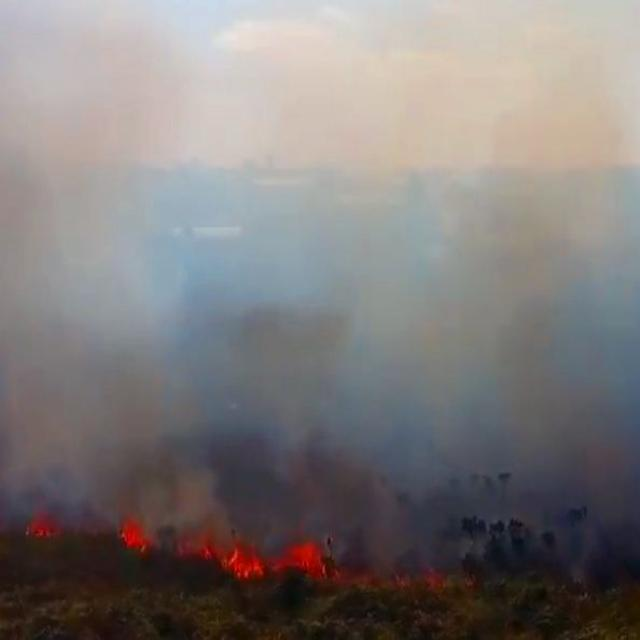Fire: (19, 501, 476, 603)
Smoke: (3, 0, 640, 530)
